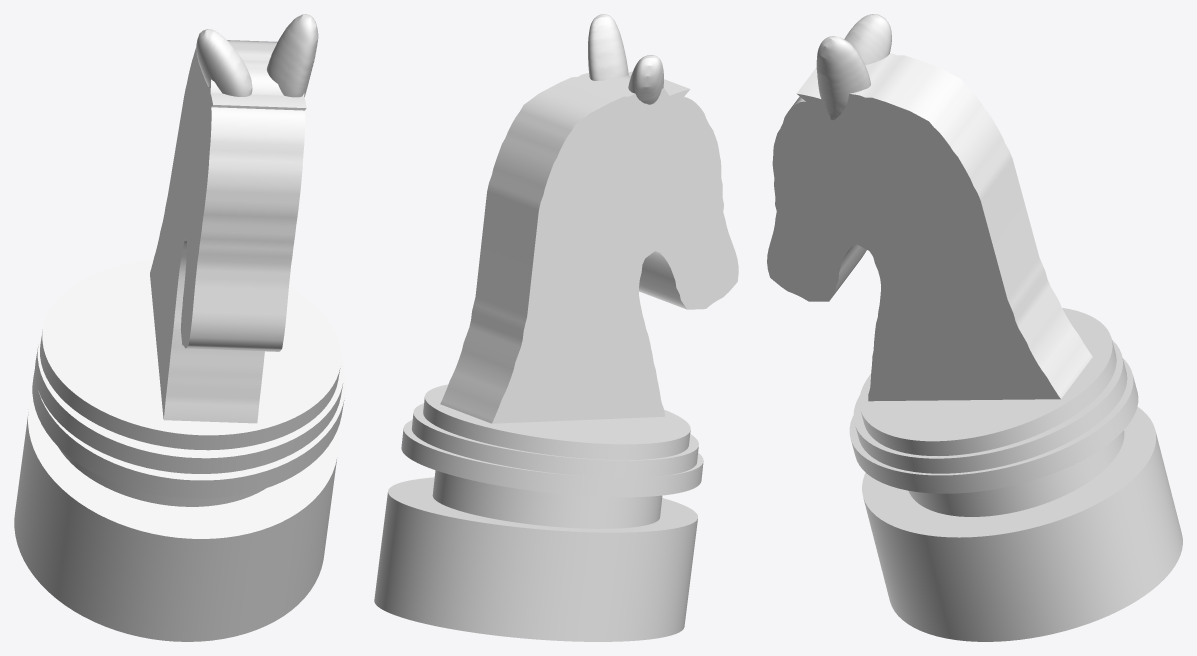
The picture shows the model from 3 angles, left to right: view 1: azimuth 30°, elevation 25°; view 2: azimuth 150°, elevation 25°; view 3: azimuth 270°, elevation 25°; orthographic projection. The views are drawn at different scales.
Visible parts, largest first — view 1: mesh_id53, mesh_id94, mesh_id88, mesh_id56, mesh_id77, mesh_id62, mesh_id79, mesh_id86; view 2: mesh_id53, mesh_id94, mesh_id88, mesh_id77, mesh_id56, mesh_id62, mesh_id79, mesh_id86; view 3: mesh_id53, mesh_id94, mesh_id88, mesh_id56, mesh_id77, mesh_id62, mesh_id79, mesh_id86.
Part boxes in pixels (x1,y1,x2,y2): mesh_id53: (150, 40, 306, 423); mesh_id94: (14, 395, 338, 641); mesh_id88: (58, 268, 310, 506); mesh_id56: (40, 259, 341, 450); mesh_id77: (32, 369, 345, 498); mesh_id62: (35, 332, 344, 473); mesh_id79: (266, 14, 318, 97); mesh_id86: (196, 29, 252, 96); mesh_id53: (440, 71, 738, 423); mesh_id94: (374, 477, 697, 641); mesh_id88: (432, 406, 669, 528); mesh_id77: (401, 420, 703, 497); mesh_id56: (423, 384, 690, 460); mesh_id62: (411, 403, 698, 478); mesh_id79: (588, 14, 628, 80); mesh_id86: (628, 55, 663, 104); mesh_id53: (767, 53, 1092, 401); mesh_id94: (862, 406, 1182, 641); mesh_id88: (884, 319, 1124, 516); mesh_id56: (859, 308, 1116, 455); mesh_id77: (849, 358, 1138, 493); mesh_id62: (853, 340, 1127, 473); mesh_id79: (816, 36, 870, 120); mesh_id86: (844, 14, 891, 65).
Size of the model in its own units: 0.0615 by 0.1273 by 0.083.
8 materials, 8 textured.
